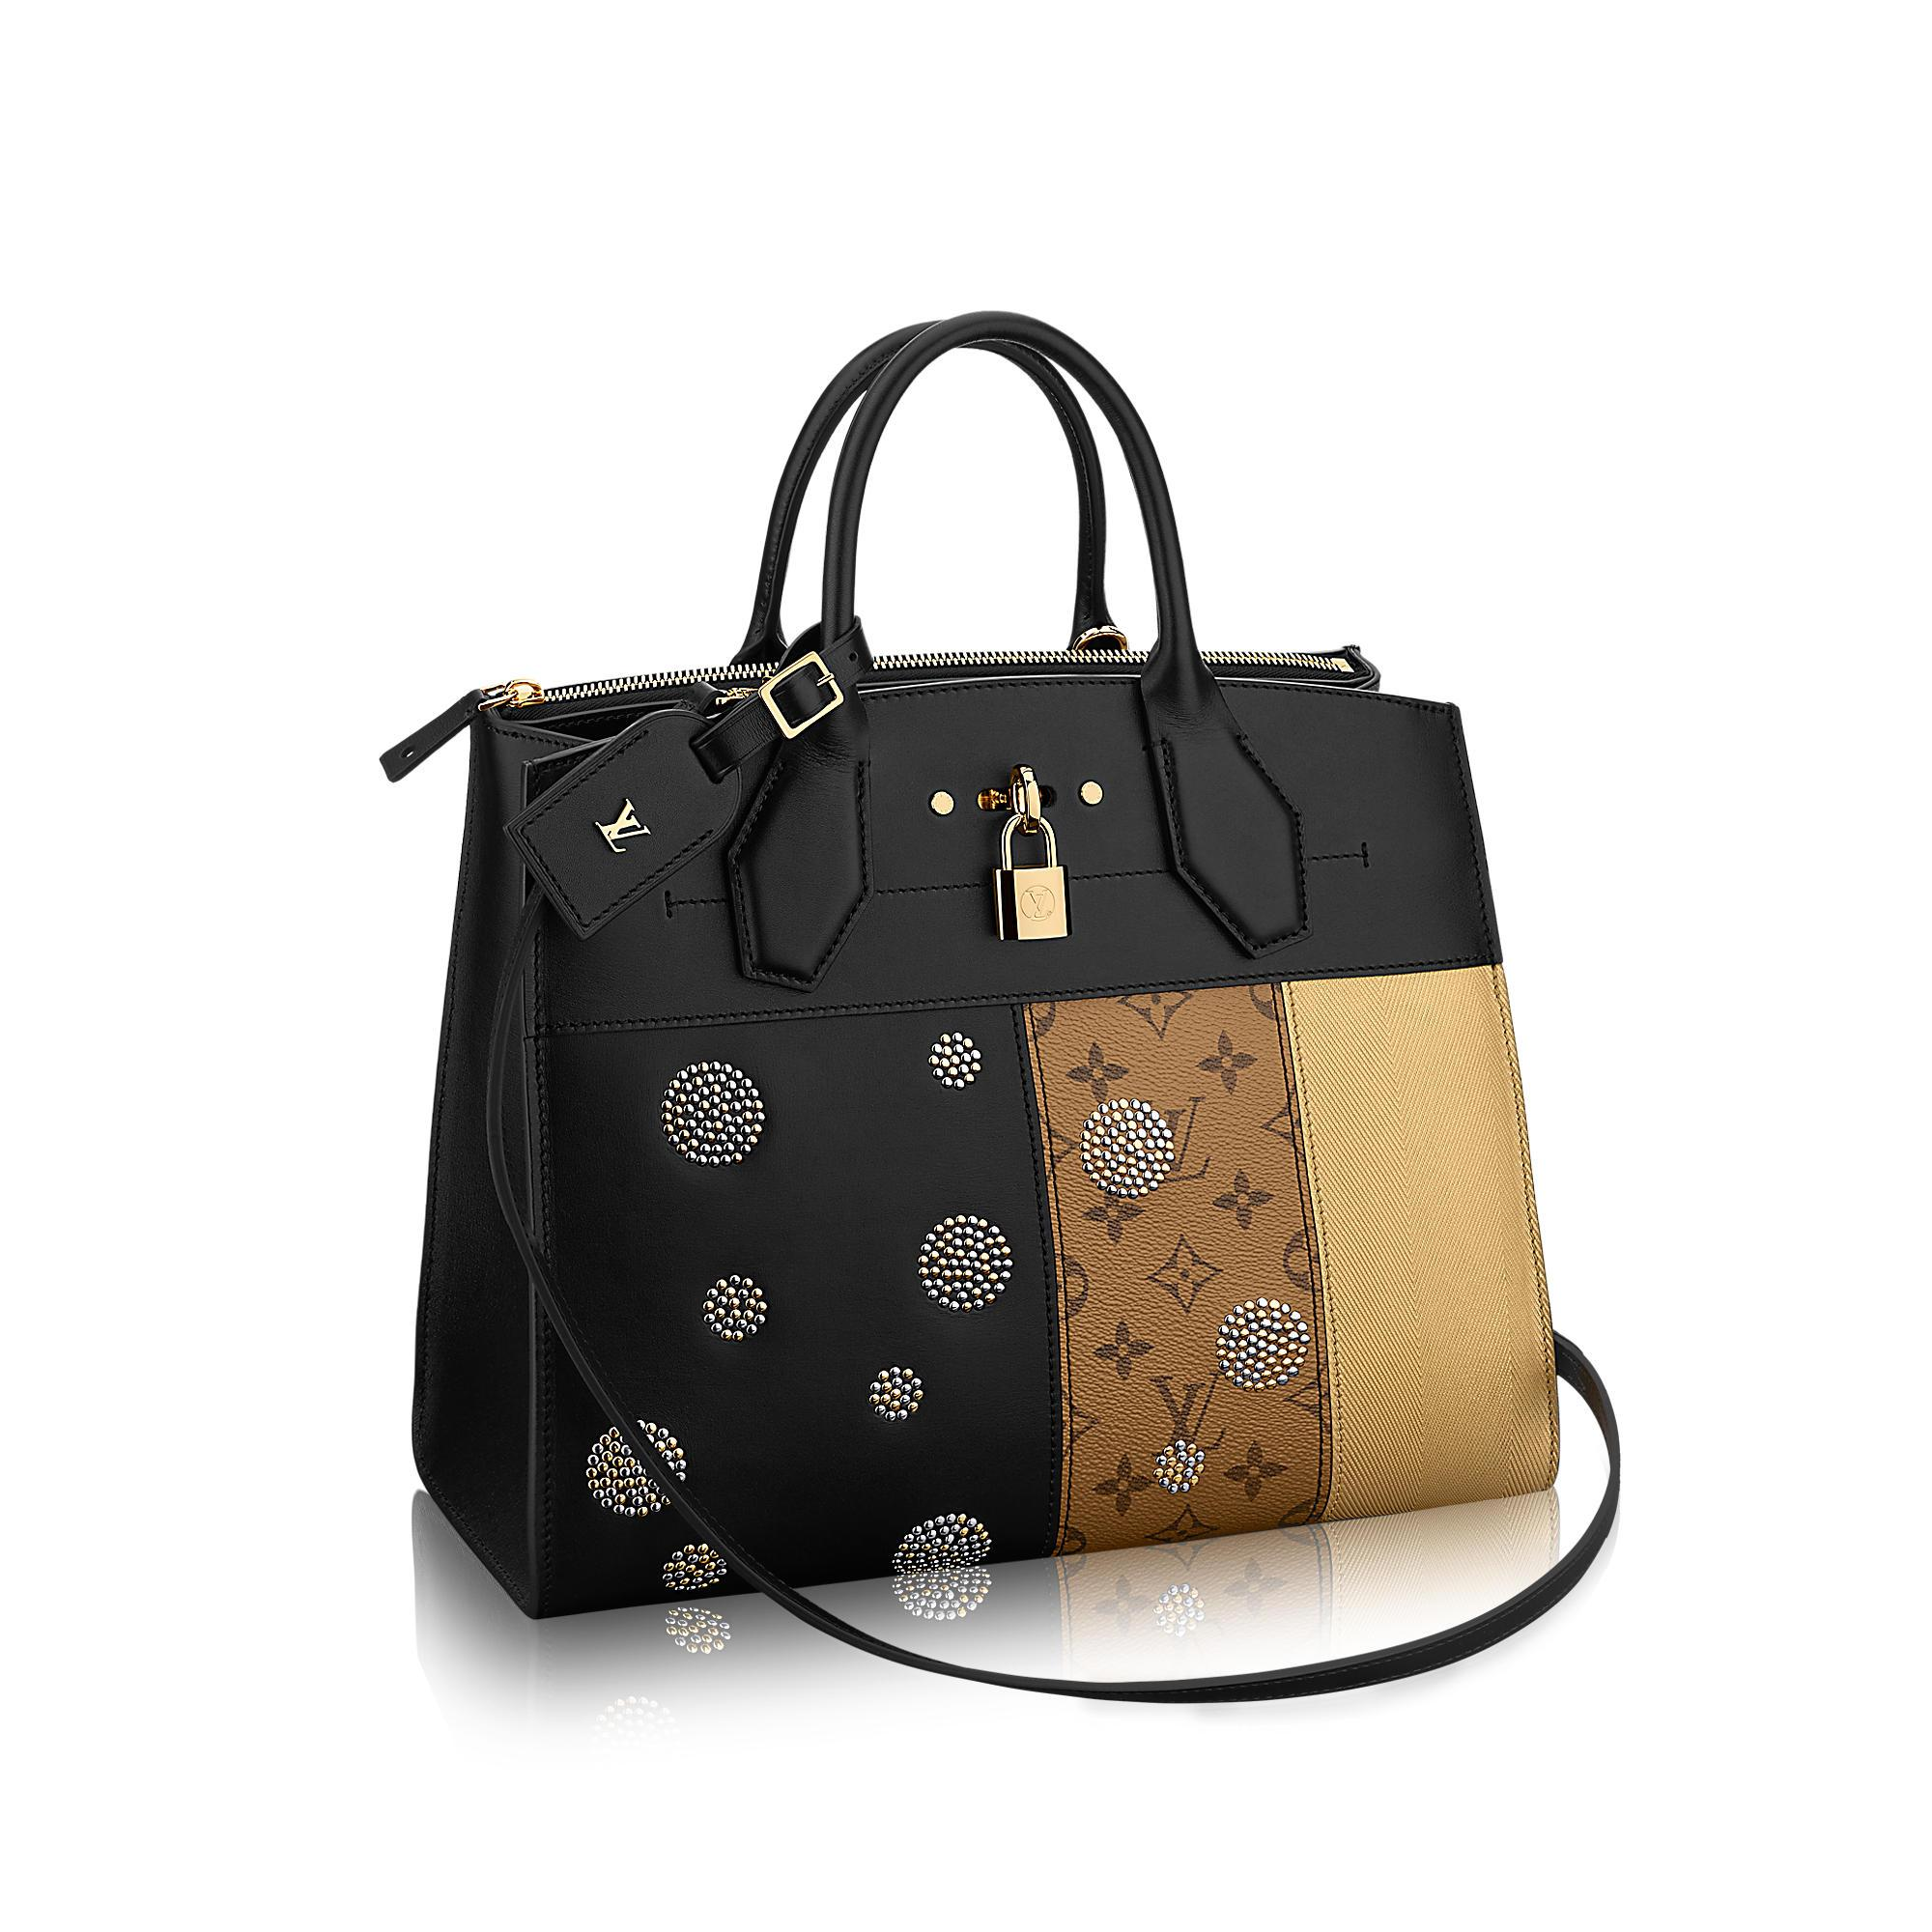LOUIS-VUITTON: (594, 800, 648, 853), (1014, 885, 1056, 925)
